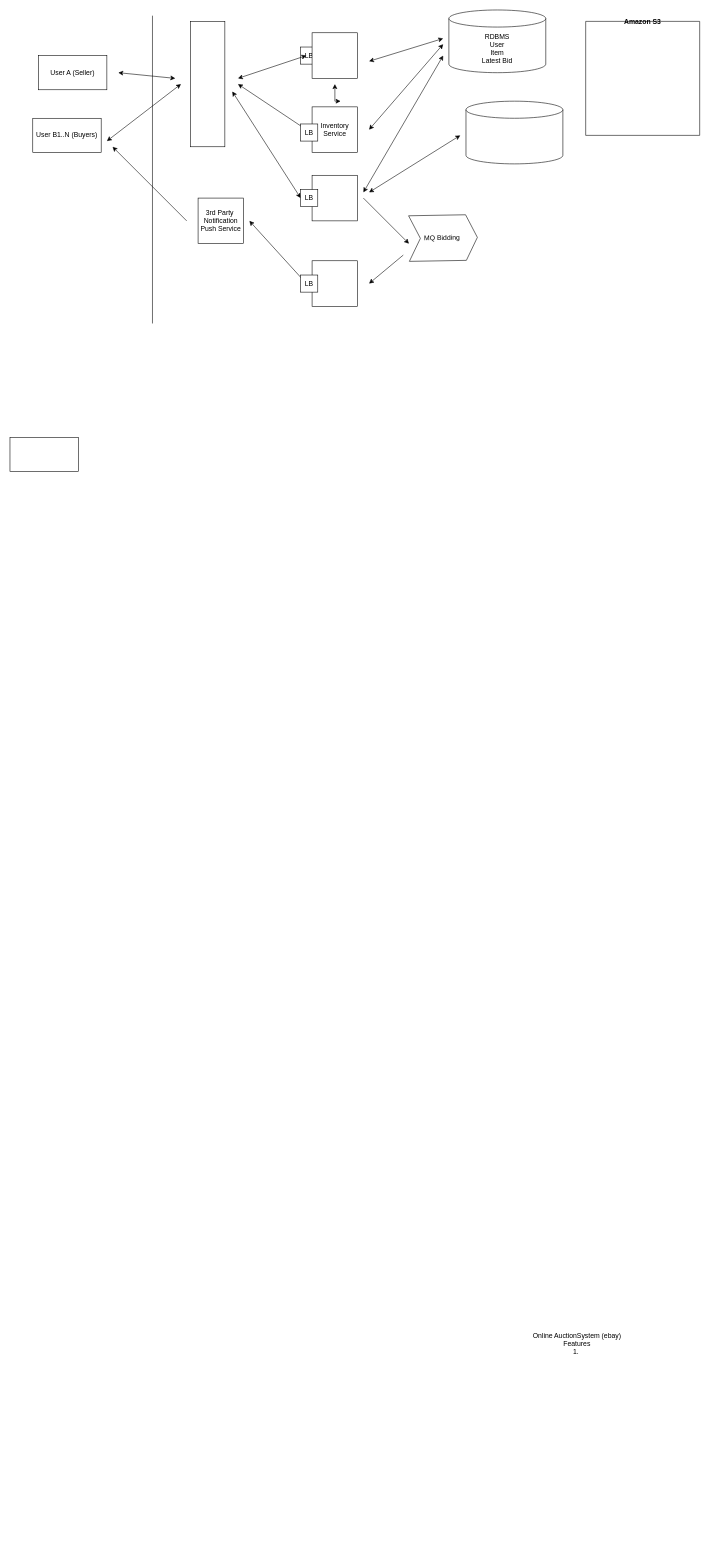
The diagram is 710 pixels wide and 1565 high, and some of its shapes have lost their labels. The box of each missing label's shape, as (x1, y1, x2, y2) in pixels:
API Gateway: (190, 21, 225, 147)
Bidding Service: (312, 175, 358, 221)
No-SQL Bid History: (465, 101, 563, 164)
Notification Service: (312, 260, 358, 306)
User Service: (312, 32, 358, 78)
